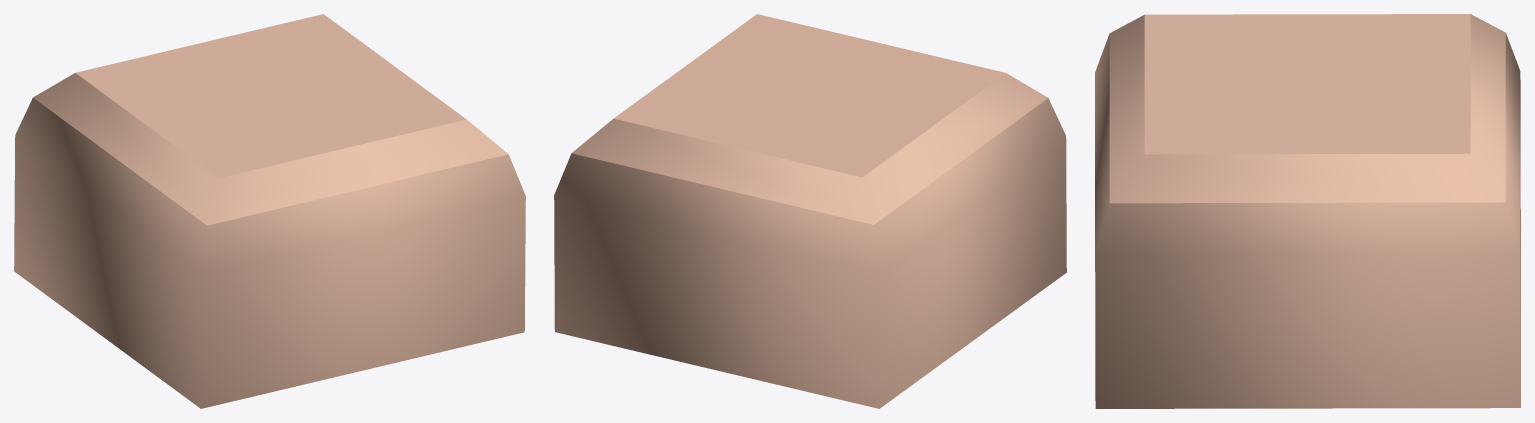
The model's file is Mesh_Hatch_Buttons.fbx.
3 renders of one model, left to right at view 1: azimuth 30°, elevation 25°; view 2: azimuth 150°, elevation 25°; view 3: azimuth 270°, elevation 25°, orthographic. The views are drawn at different scales.
Visible parts, largest first — view 1: Bouton_1; view 2: Bouton_1; view 3: Bouton_1.
Part boxes in pixels (left/top/right/bottom): Bouton_1: left=14, top=14, right=525, bottom=408; Bouton_1: left=554, top=14, right=1066, bottom=408; Bouton_1: left=1095, top=14, right=1520, bottom=408.
Size of the model in its own units: 12.09 by 7.41 by 12.07.
